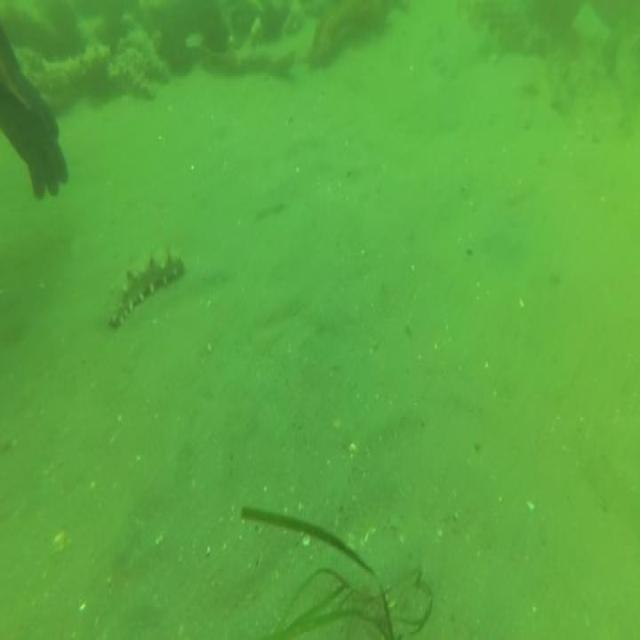holothurian: (103, 238, 188, 334), (32, 41, 109, 106), (116, 24, 176, 80), (104, 43, 156, 106)
